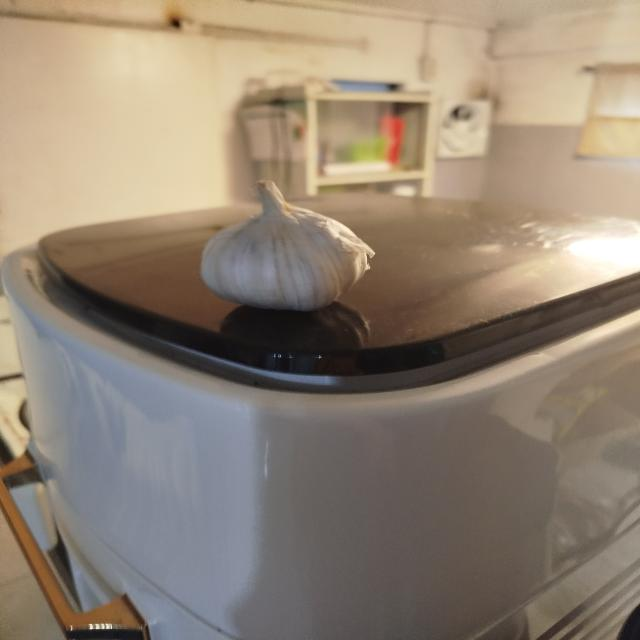garlic: (200, 179, 376, 312)
